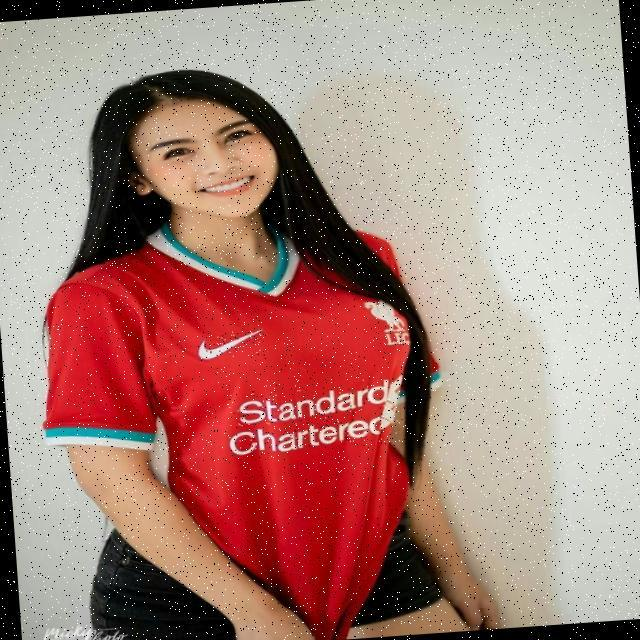Nike: (197, 329, 265, 361)
Standard Chartered: (225, 375, 407, 455)
